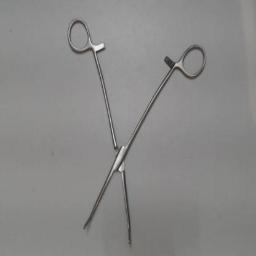Lahey Forceps: (66, 14, 210, 246)
